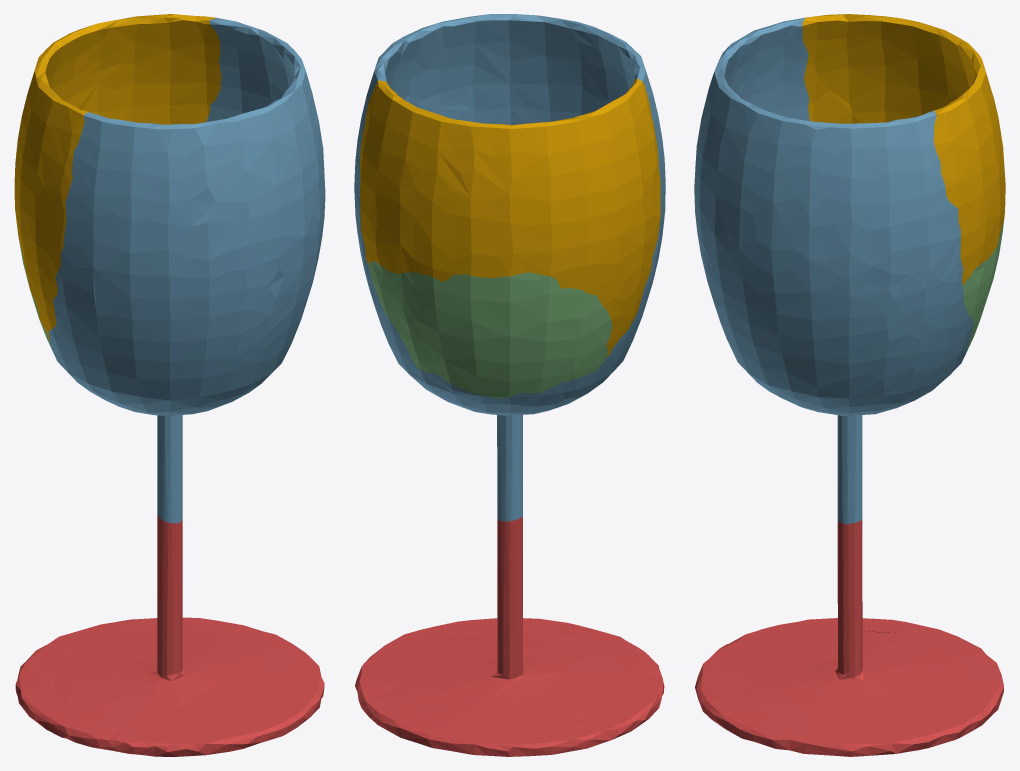
The model's file is fractured_77_4pcs.glb.
The picture shows the model from 3 angles, left to right: view 1: azimuth 30°, elevation 25°; view 2: azimuth 150°, elevation 25°; view 3: azimuth 270°, elevation 25°; orthographic projection.
Visible parts, largest first — view 1: piece_2.obj, piece_1.obj, piece_0.obj; view 2: piece_0.obj, piece_1.obj, piece_2.obj, piece_3.obj; view 3: piece_2.obj, piece_1.obj, piece_0.obj, piece_3.obj.
Part boxes in pixels (x1,y1,x2,y2): piece_2.obj: [48, 18, 325, 523]; piece_1.obj: [15, 515, 324, 756]; piece_0.obj: [14, 14, 221, 339]; piece_0.obj: [360, 78, 660, 357]; piece_1.obj: [355, 517, 664, 756]; piece_2.obj: [354, 14, 665, 521]; piece_3.obj: [367, 260, 612, 398]; piece_2.obj: [694, 18, 973, 524]; piece_1.obj: [695, 519, 1003, 756]; piece_0.obj: [802, 14, 1005, 285]; piece_3.obj: [962, 221, 1003, 349].
Size of the model in its own units: 0.4519 by 1 by 0.4521.
